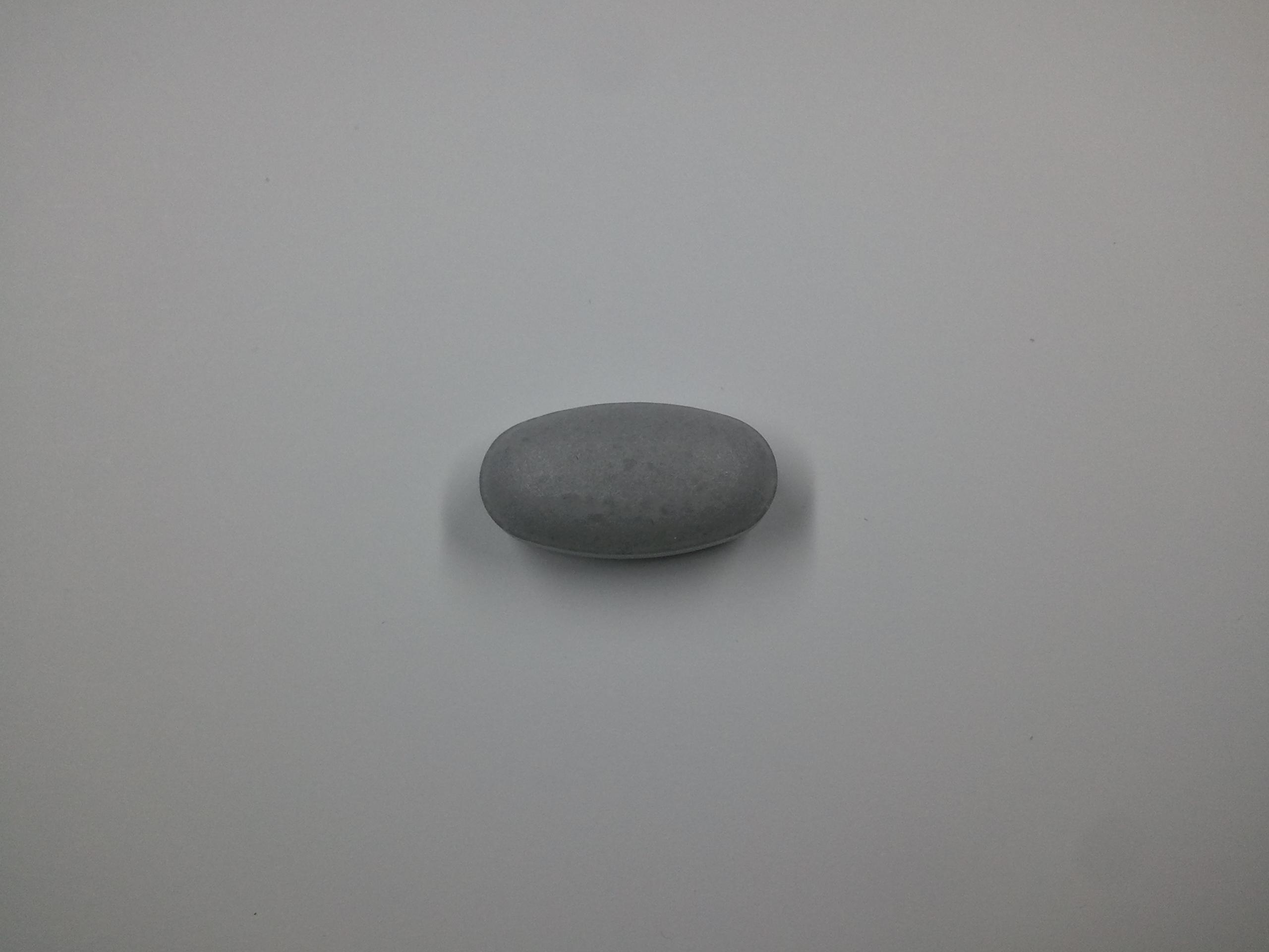Pill: (471, 390, 790, 570)
